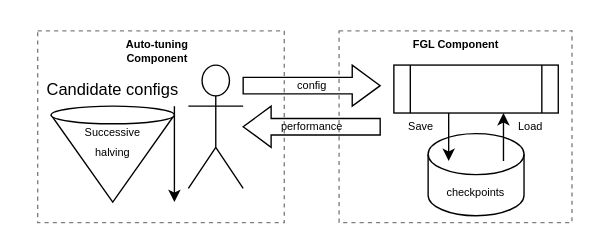
Image size: 596x247. Some labels were removed from this diagram. The shapes that lost their labels are listed below. From the top down, each one's centre as x and y in pixels, then its label:
the point at 475,88: FL Train&Evaluate
the point at 215,126: HPO Agent
